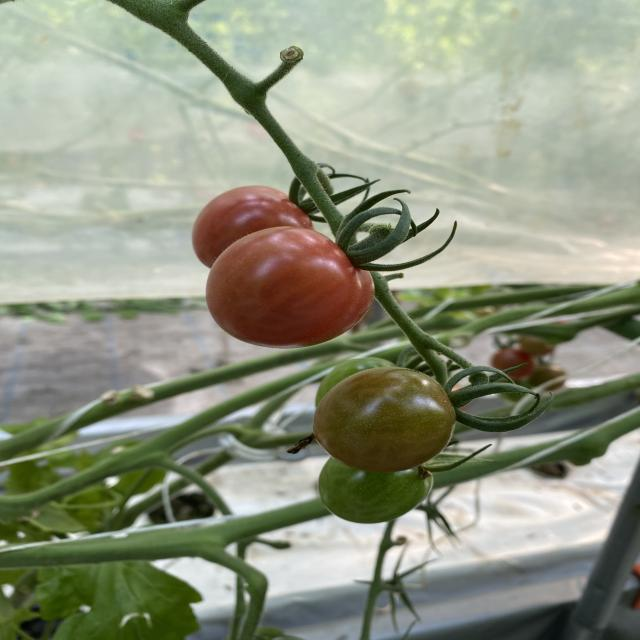c-half-riped: (312, 367, 457, 473)
c-riped: (205, 227, 375, 349), (190, 184, 313, 268)
c-unriped: (318, 456, 434, 524), (316, 357, 398, 407)
